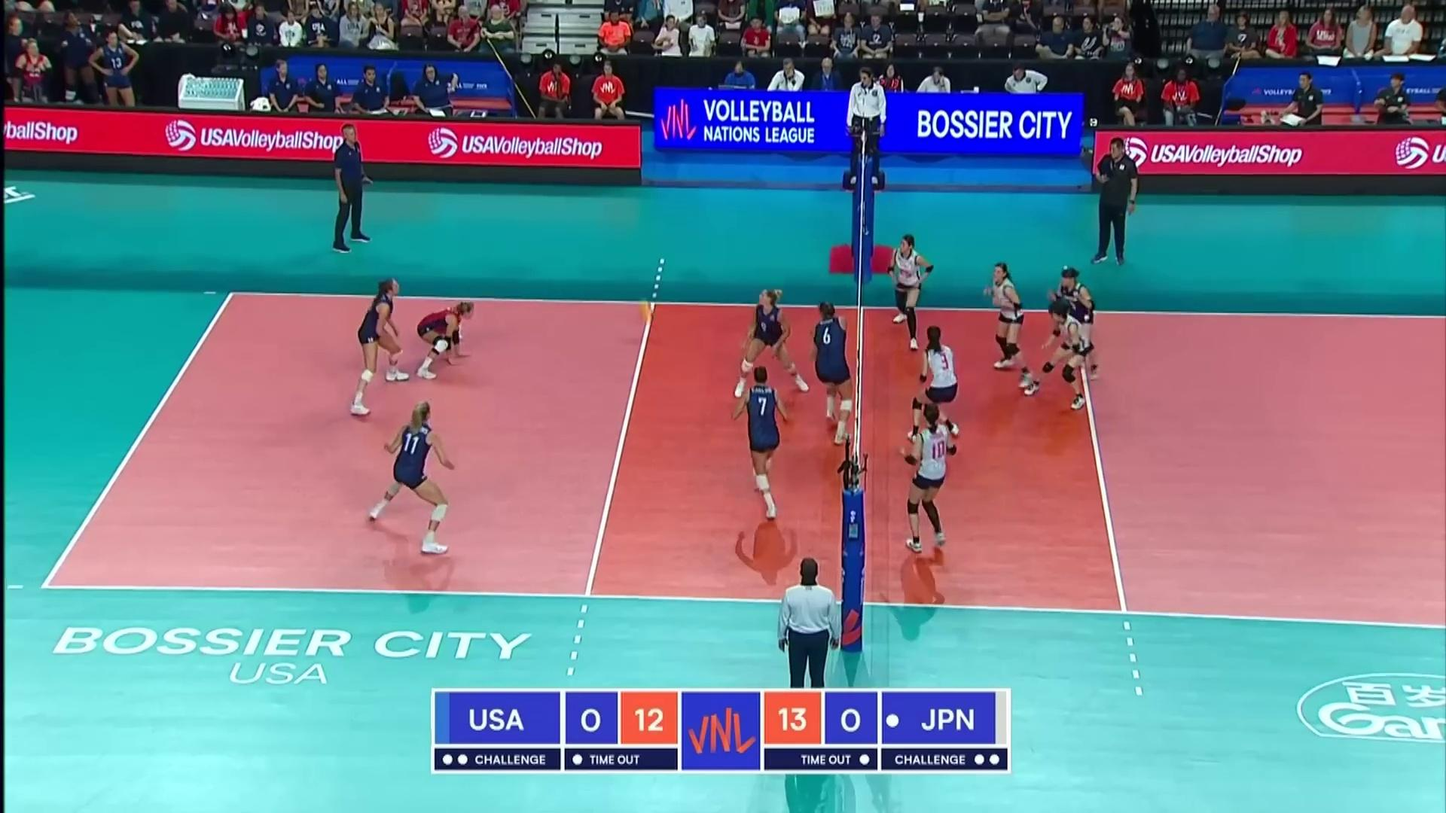player: (370, 403, 466, 553), (904, 395, 968, 553), (343, 274, 412, 417), (733, 356, 799, 501), (736, 285, 805, 417), (800, 303, 859, 449), (1042, 265, 1104, 403), (1027, 298, 1095, 418), (883, 234, 937, 353), (911, 326, 961, 451), (985, 264, 1037, 382), (412, 305, 477, 383)
refree: (776, 559, 838, 688), (847, 62, 890, 189)
